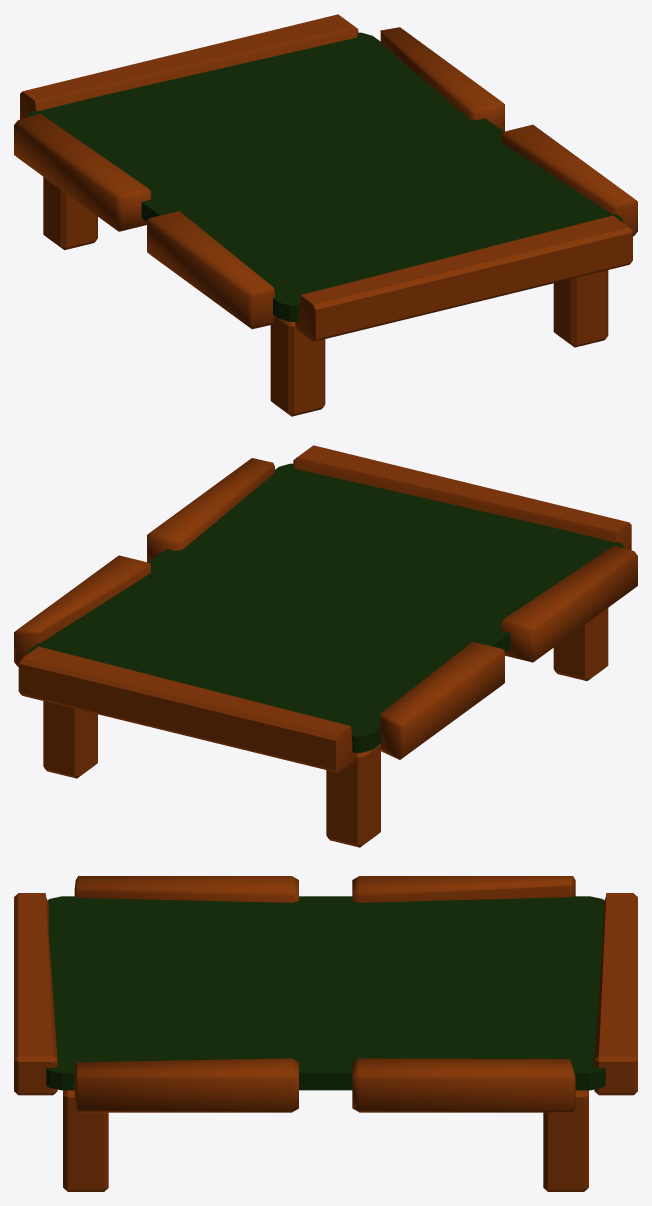
Rendered from sinuca.fbx.
The picture shows the model from 3 angles, top to bottom: view 1: azimuth 30°, elevation 25°; view 2: azimuth 150°, elevation 25°; view 3: azimuth 270°, elevation 25°; orthographic projection. The views are drawn at different scales.
Parts seen in each view (by area): view 1: Cube, Cube.005, Cube.006, Cube.003; view 2: Cube, Cube.005, Cube.006, Cube.003; view 3: Cube, Cube.006, Cube.005, Cube.003.
Boxes of the visible parts, <box> form: Cube: <box>28,32,623,321</box>; Cube.005: <box>20,14,632,341</box>; Cube.006: <box>14,27,637,329</box>; Cube.003: <box>43,177,608,416</box>; Cube: <box>28,463,623,752</box>; Cube.005: <box>18,445,631,772</box>; Cube.006: <box>14,458,637,759</box>; Cube.003: <box>43,608,608,847</box>; Cube: <box>46,896,605,1090</box>; Cube.006: <box>74,876,575,1112</box>; Cube.005: <box>14,893,637,1095</box>; Cube.003: <box>63,1090,588,1191</box>.
Size of the model in its own units: 1484 by 482 by 1948.
